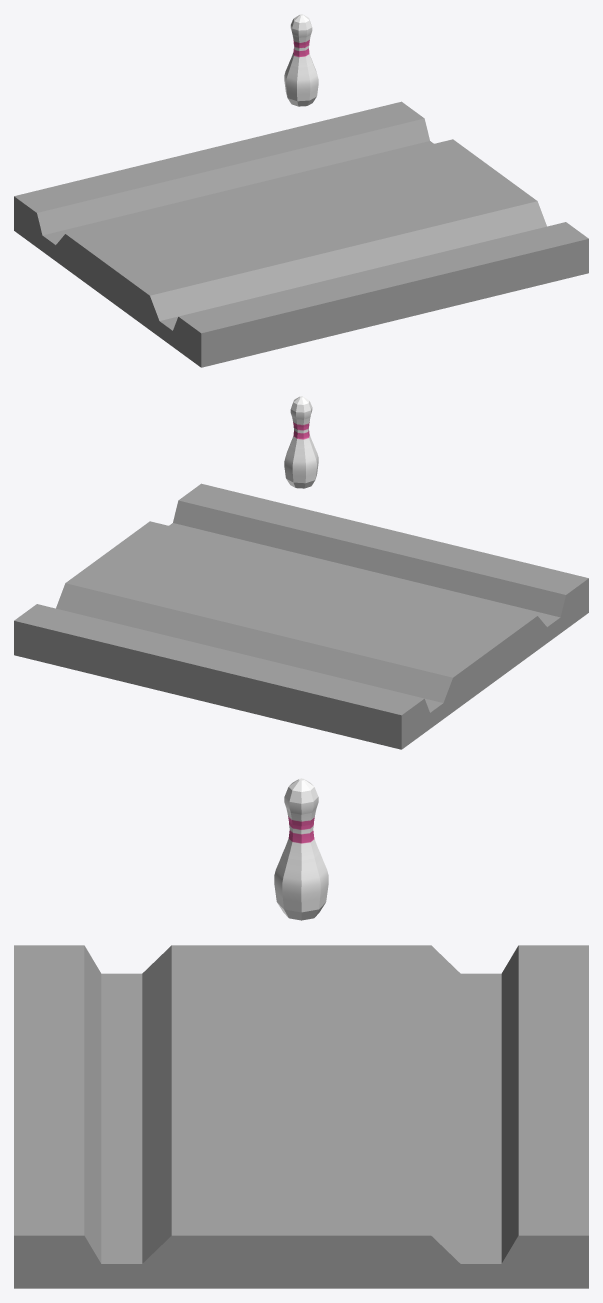
File: bowling.fbx
3 views of the same model, one above another, from view 1: azimuth 30°, elevation 25°; view 2: azimuth 150°, elevation 25°; view 3: azimuth 270°, elevation 25° (orthographic). The views are drawn at different scales.
Visible parts, largest first — view 1: pCube1, pCylinder1; view 2: pCube1, pCylinder1; view 3: pCube1, pCylinder1.
Boxes of the visible parts, x1,y1,x2,y2 form: pCube1: [14, 101, 588, 367]; pCylinder1: [284, 14, 318, 106]; pCube1: [14, 483, 588, 749]; pCylinder1: [284, 396, 318, 488]; pCube1: [14, 945, 588, 1288]; pCylinder1: [274, 778, 328, 920].
Size of the model in its own units: 25.23 by 14.75 by 21.12.
